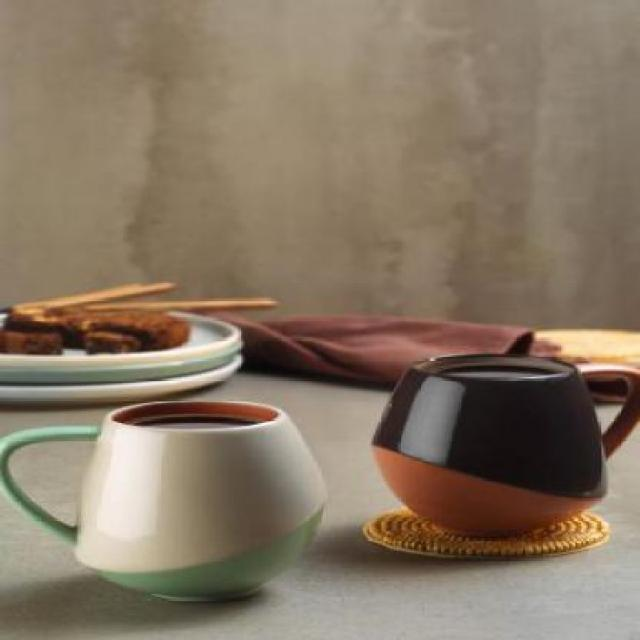taza: (0, 399, 325, 603), (368, 355, 640, 536)
